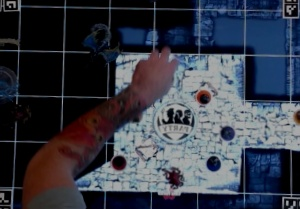blue: (199, 154, 224, 175)
orange: (191, 87, 214, 106)
red: (109, 151, 130, 172)
violet: (219, 123, 239, 145)
yellow: (291, 105, 300, 126)
